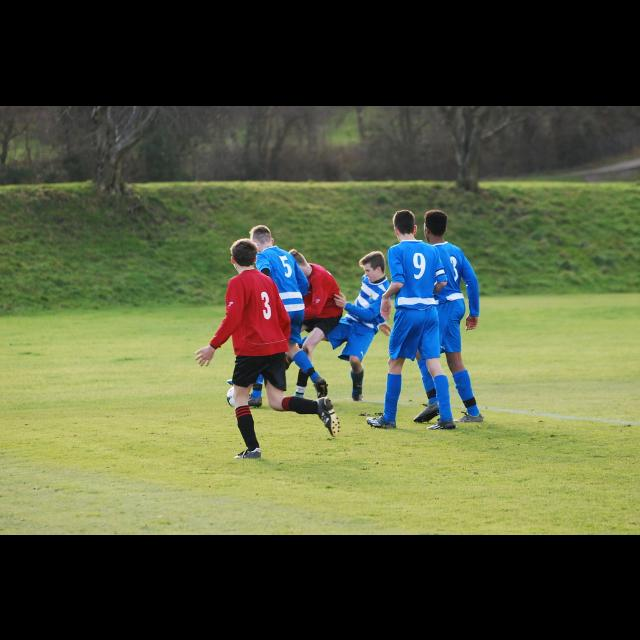Football: (224, 384, 233, 406)
